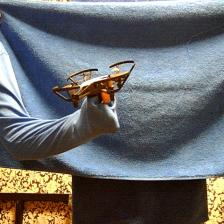drone: (54, 58, 135, 108)
